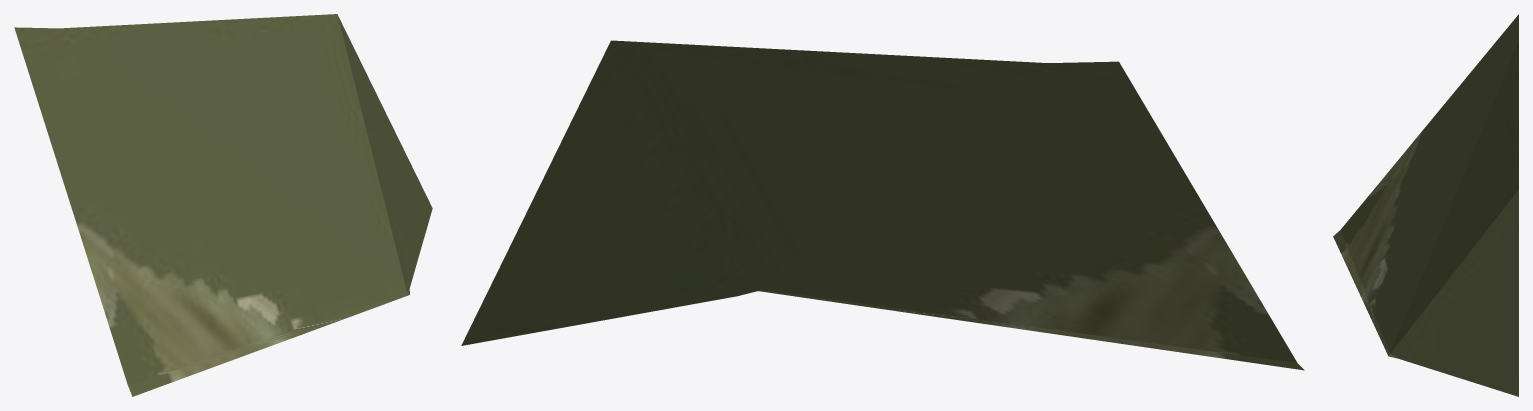
3 views of the same model, side by side, from view 1: azimuth 30°, elevation 25°; view 2: azimuth 150°, elevation 25°; view 3: azimuth 270°, elevation 25° (orthographic). The views are drawn at different scales.
Size of the model in its own units: 1.36 by 0.8794 by 0.6659.
1 material, 1 textured.
